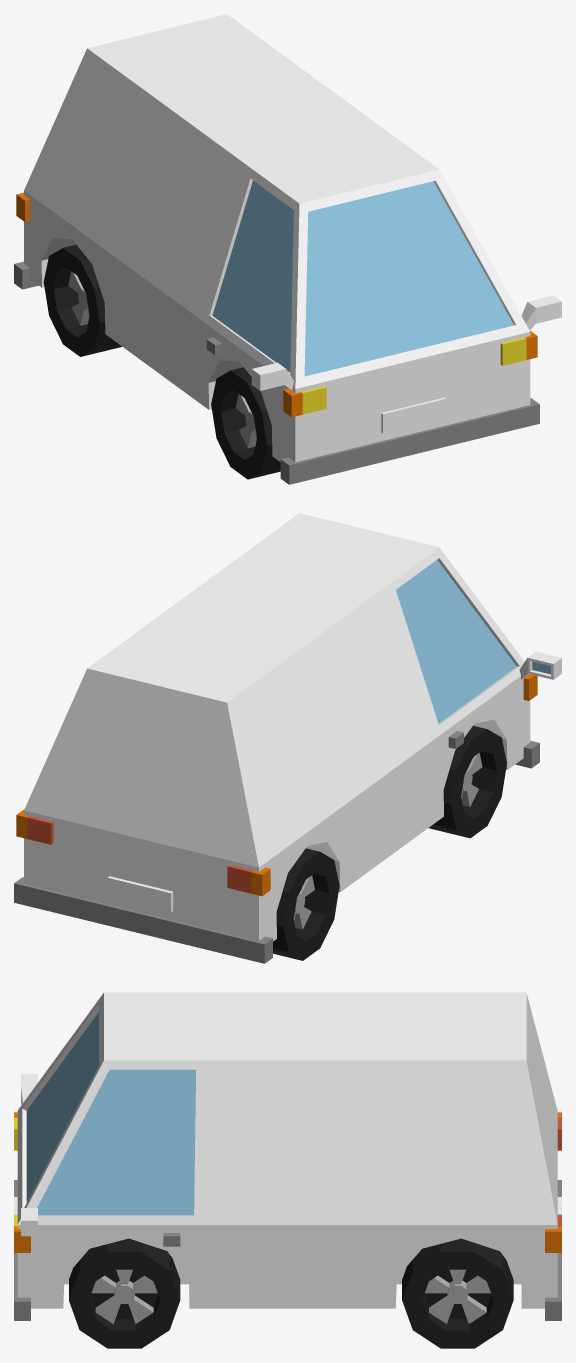
File: car-lowpoly-5.fbx
The picture shows the model from 3 angles, top to bottom: view 1: azimuth 30°, elevation 25°; view 2: azimuth 150°, elevation 25°; view 3: azimuth 270°, elevation 25°; orthographic projection.
Visible parts, largest first — view 1: car-lowpoly-5; view 2: car-lowpoly-5; view 3: car-lowpoly-5.
Part boxes in pixels (x1,y1,x2,y2): car-lowpoly-5: (14,14,561,484); car-lowpoly-5: (14,513,561,963); car-lowpoly-5: (14,992,561,1348).
Size of the model in its own units: 283 by 237 by 446.
